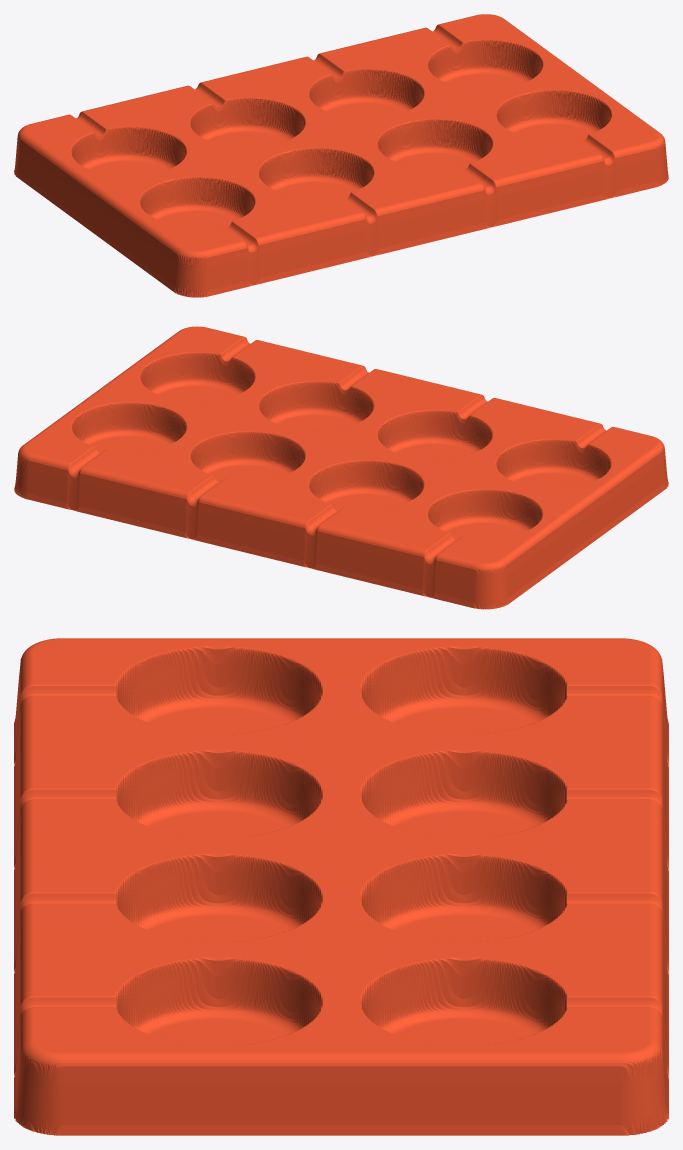
Rendered from mold.glb.
3 views of the same model, one above another, from view 1: azimuth 30°, elevation 25°; view 2: azimuth 150°, elevation 25°; view 3: azimuth 270°, elevation 25° (orthographic). The views are drawn at different scales.
Visible parts, largest first — view 1: geometry_0; view 2: geometry_0; view 3: geometry_0.
Part boxes in pixels (left/top/right/bottom): geometry_0: left=14, top=14, right=668, bottom=297; geometry_0: left=14, top=326, right=668, bottom=609; geometry_0: left=14, top=638, right=668, bottom=1135.
Size of the model in its own units: 0.1907 by 0.0155 by 0.1229.
